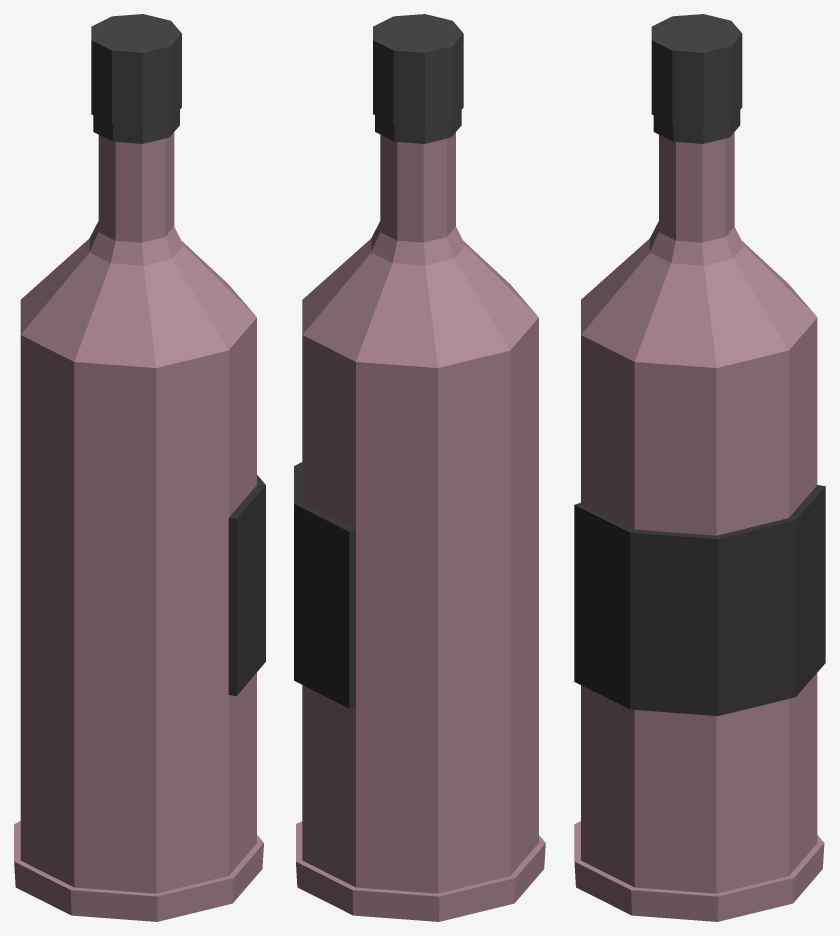
Rendered from Wine Bottle 2.fbx.
3 views of the same model, side by side, from view 1: azimuth 30°, elevation 25°; view 2: azimuth 150°, elevation 25°; view 3: azimuth 270°, elevation 25° (orthographic).
Visible parts, largest first — view 1: Wine Bottle 2; view 2: Wine Bottle 2; view 3: Wine Bottle 2.
Part boxes in pixels (bbox=[...]): Wine Bottle 2: bbox=[14, 14, 265, 921]; Wine Bottle 2: bbox=[294, 14, 545, 921]; Wine Bottle 2: bbox=[574, 14, 825, 921].
Bounding box in the file's own units: 0.4982 × 1.8 × 0.4901.
